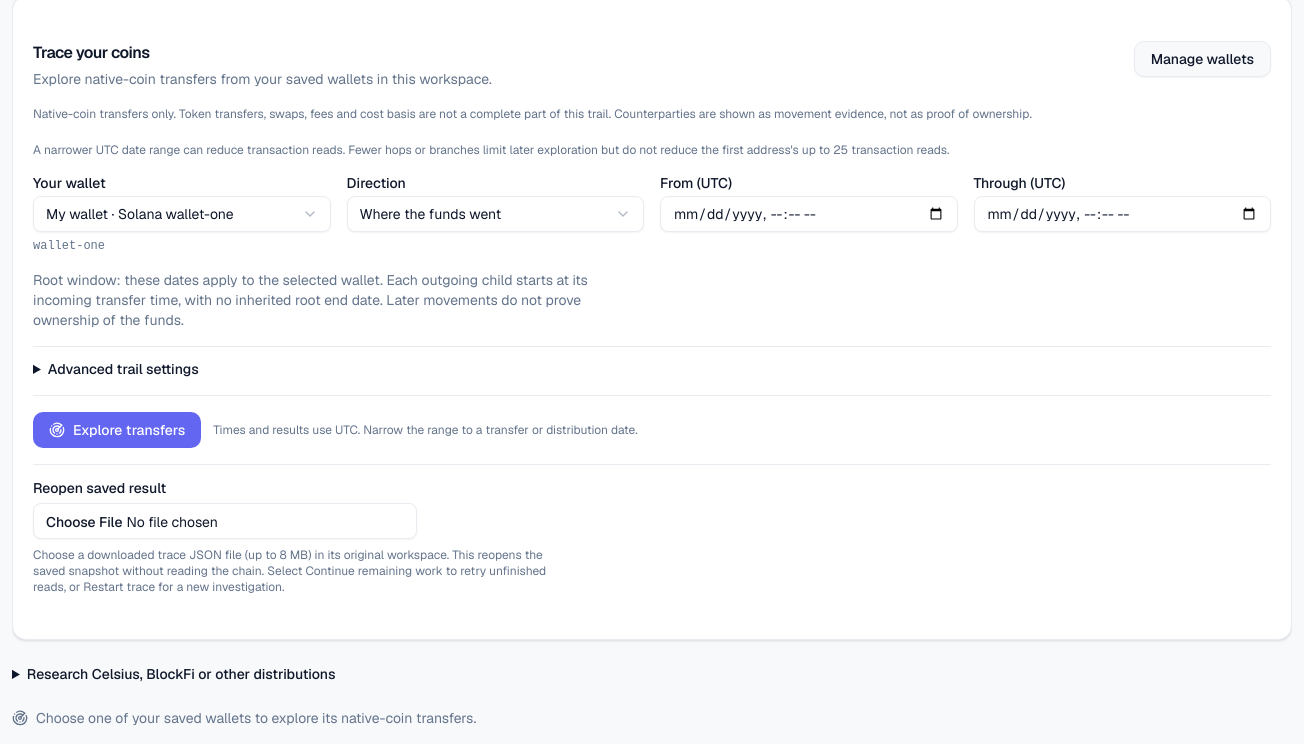
Scenario: owned wallet activity › shows measured coverage for every node without turning unknown counts into zero
The width and height of the screenshot is (1304, 744).
What coordinates should you click on to do the following:
click the button "Explore transfers"
I would click on:
 (117, 430)
Its box is 33,412 -> 201,448.
(page scrolled)
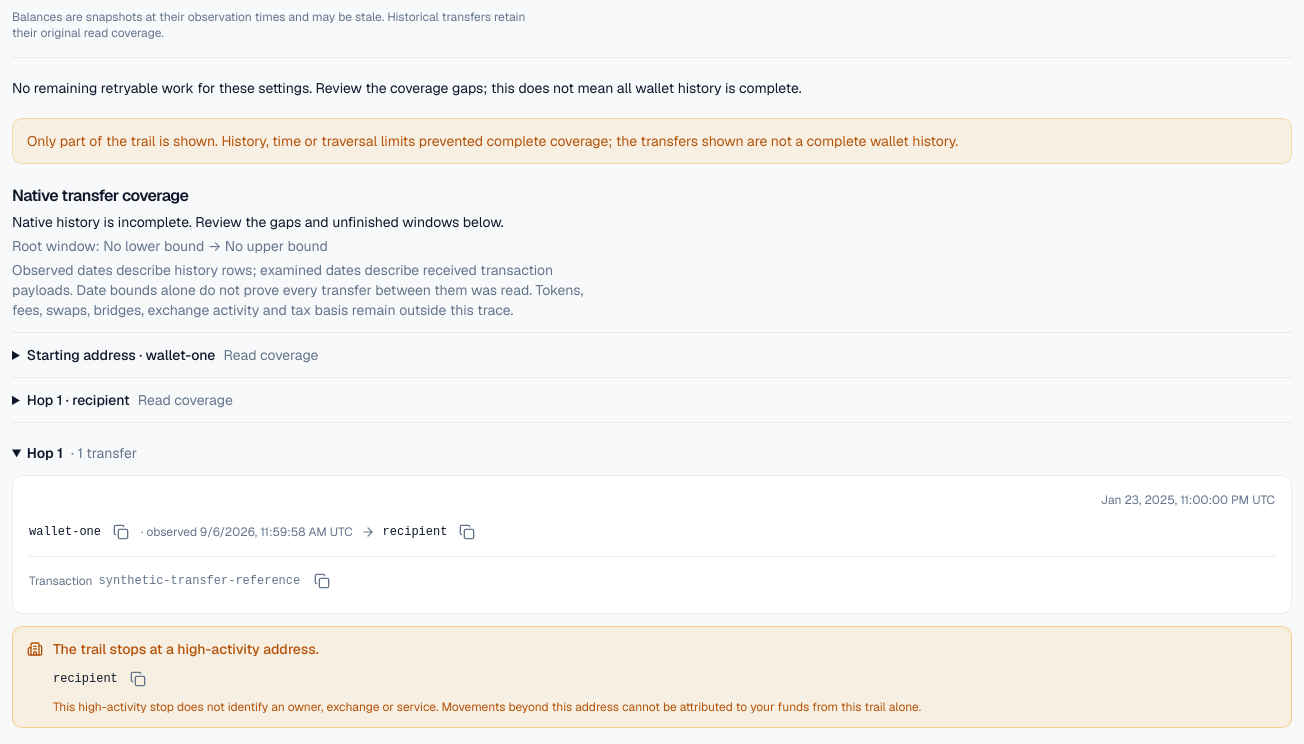
Now the text "Native history is incomplete" is shown, box 12,213 -> 504,231
What coordinates should you click on to do the following:
click the heading "Starting address · wallet-one"
I would click on:
 (173, 355)
Its box is 27,346 -> 318,364.
(page scrolled)
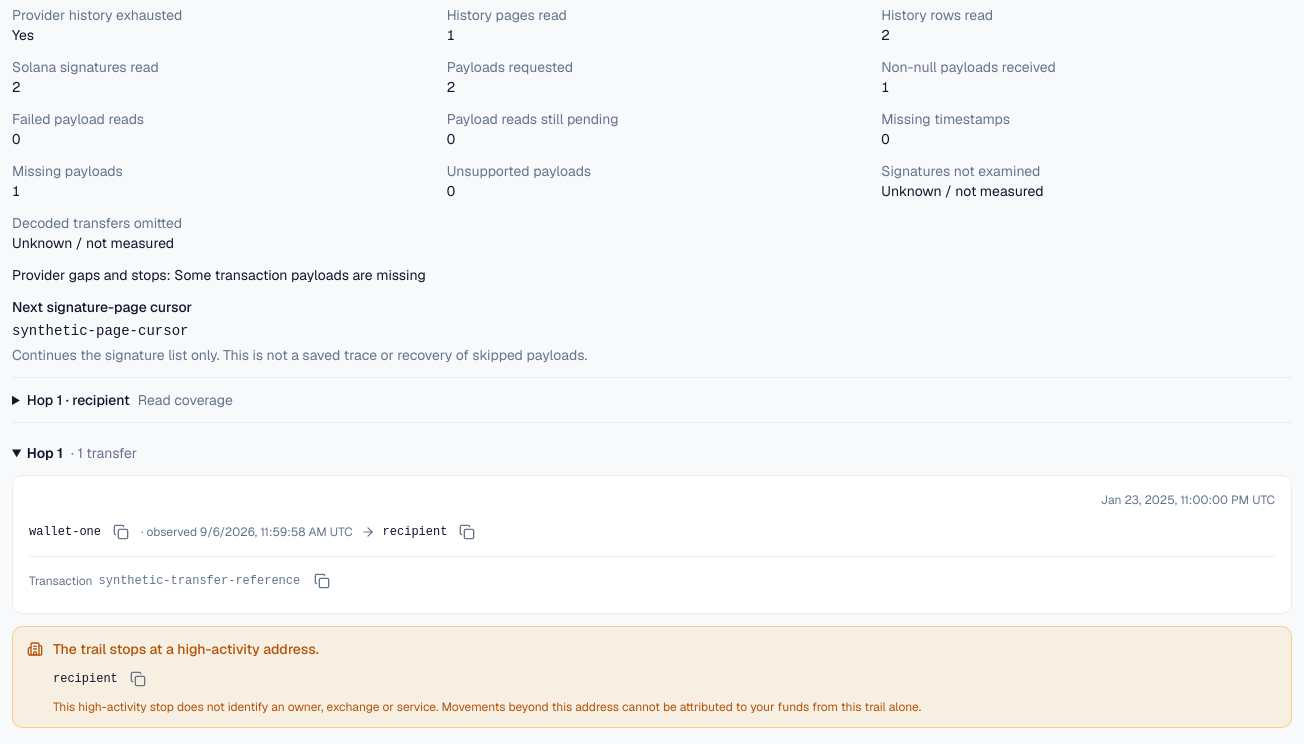
Now the text "2" below "Solana signatures read" is shown, box 12,78 -> 20,96
Now the text "0" below "Missing timestamps" is shown, box 881,130 -> 890,148
Now the text "1" below "Missing payloads" is shown, box 12,182 -> 20,200
What coordinates should you click on to do the following:
click the heading "Hop 1 · recipient"
I would click on:
 (130, 400)
Its box is 27,391 -> 233,409.
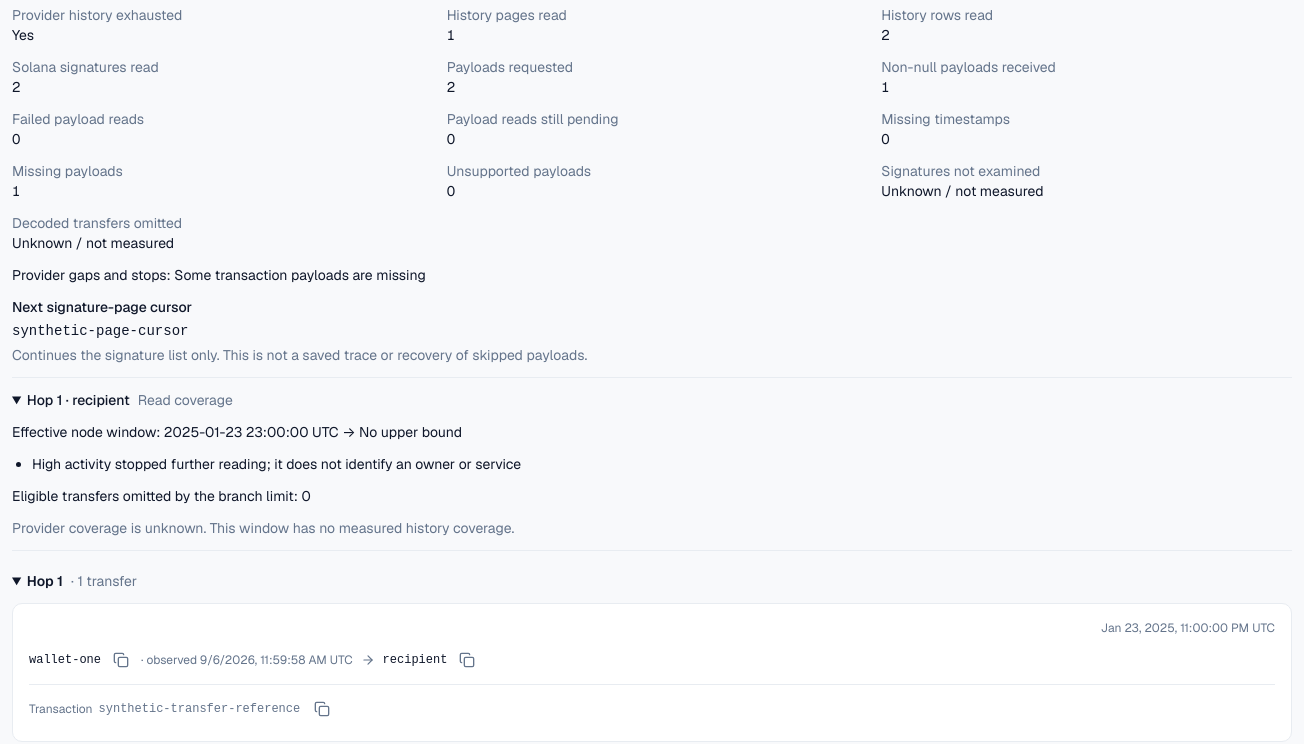
Now the text "Yes" below "Provider history exhausted" is shown, box 12,26 -> 34,44
Now the text "Provider coverage is unknown" is shown, box 12,519 -> 514,537
Now the list item "High activity stopped further reading; it does not identify" is shown, box 32,455 -> 521,473
